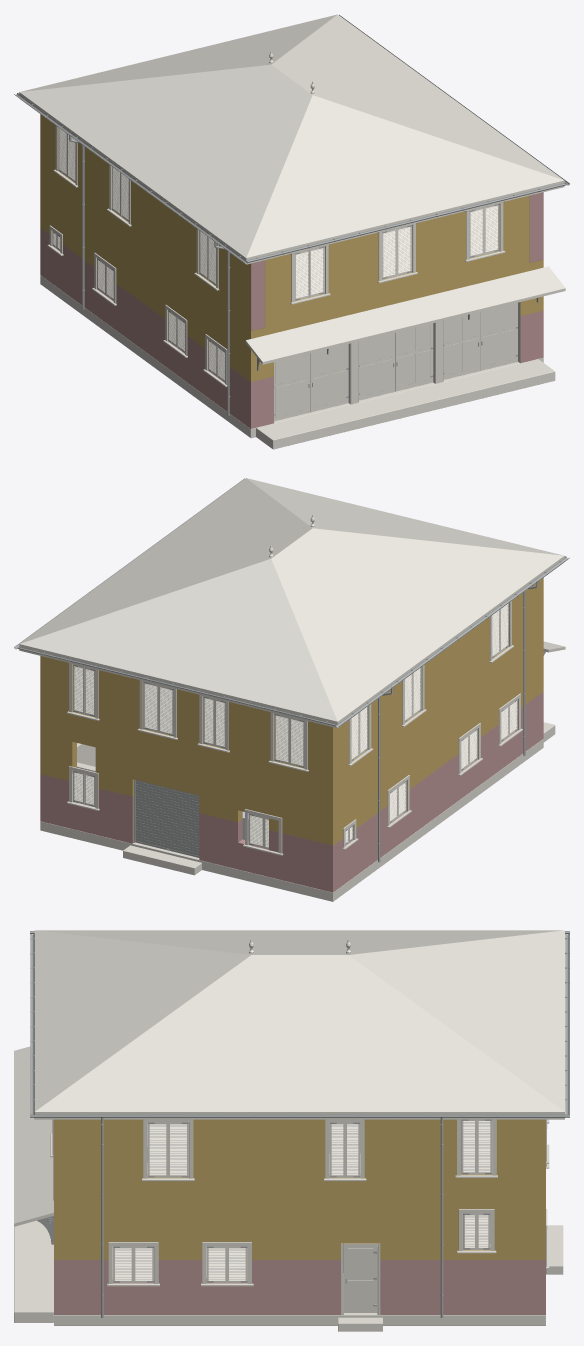
File: grand_fond_H11.glb
3 views of the same model, one above another, from view 1: azimuth 30°, elevation 25°; view 2: azimuth 150°, elevation 25°; view 3: azimuth 270°, elevation 25° (orthographic). The views are drawn at different scales.
Visible parts, largest first — view 1: Roof_Hip, Walls_Outer, Roof_Canopy, Det_shutter_paint, ARCH_pavers_concrete, Det_plaster_cream_warm_bev, Det_galvanized_steel, Foundation_Slab, DoorLeaf_02a_L_in, DoorLeaf_01a_L_in, DoorLeaf_03a_L_in, DoorLeaf_01b_R_in (+7 smaller); view 2: Roof_Hip, Walls_Outer, Det_shutter_paint, Det_plaster_cream_warm_bev, Foundation_Slab, DoorRoll_01, Det_galvanized_steel, Det_painted_timber_warmgrey_bev, ARCH_pavers_concrete, ARCH_plaster_cream_warm, Det_steel_painted_worn; view 3: Roof_Hip, Walls_Outer, Det_shutter_paint, ARCH_pavers_concrete, Det_galvanized_steel, Roof_Canopy, Foundation_Slab, Det_plaster_cream_warm_bev, Det_painted_timber_warmgrey_bev, DoorLeaf_04_L_in, ARCH_white_peeling_timber, ARCH_plaster_cream_warm (+1 smaller).
Boxes of the visible parts, x1=… form: Roof_Hip: x1=19, y1=14, x2=564, y2=259; Walls_Outer: x1=40, y1=114, x2=543, y2=428; Roof_Canopy: x1=245, y1=266, x2=565, y2=364; Det_shutter_paint: x1=52, y1=128, x2=499, y2=382; ARCH_pavers_concrete: x1=256, y1=359, x2=555, y2=449; Det_plaster_cream_warm_bev: x1=47, y1=125, x2=505, y2=387; Det_galvanized_steel: x1=14, y1=15, x2=569, y2=415; Foundation_Slab: x1=40, y1=275, x2=543, y2=438; DoorLeaf_02a_L_in: x1=395, y1=323, x2=433, y2=391; DoorLeaf_01a_L_in: x1=310, y1=344, x2=348, y2=412; DoorLeaf_03a_L_in: x1=480, y1=302, x2=517, y2=370; DoorLeaf_01b_R_in: x1=274, y1=353, x2=310, y2=420; Roof_Hip: x1=19, y1=478, x2=564, y2=723; Walls_Outer: x1=40, y1=578, x2=543, y2=892; Det_shutter_paint: x1=73, y1=603, x2=517, y2=849; Det_plaster_cream_warm_bev: x1=67, y1=601, x2=522, y2=855; Foundation_Slab: x1=40, y1=739, x2=543, y2=901; DoorRoll_01: x1=135, y1=780, x2=199, y2=857; Det_galvanized_steel: x1=14, y1=478, x2=569, y2=862; Det_painted_timber_warmgrey_bev: x1=19, y1=557, x2=564, y2=728; ARCH_pavers_concrete: x1=123, y1=722, x2=555, y2=875; ARCH_plaster_cream_warm: x1=67, y1=603, x2=521, y2=855; Det_steel_painted_worn: x1=30, y1=483, x2=562, y2=845; Roof_Hip: x1=34, y1=930, x2=564, y2=1113; Walls_Outer: x1=54, y1=1119, x2=545, y2=1314; Det_shutter_paint: x1=113, y1=1119, x2=491, y2=1282; ARCH_pavers_concrete: x1=14, y1=1220, x2=563, y2=1331; Det_galvanized_steel: x1=30, y1=931, x2=569, y2=1317; Roof_Canopy: x1=14, y1=1046, x2=53, y2=1226; Foundation_Slab: x1=54, y1=1246, x2=545, y2=1325; Det_plaster_cream_warm_bev: x1=50, y1=1119, x2=549, y2=1286; Det_painted_timber_warmgrey_bev: x1=34, y1=1112, x2=564, y2=1119; DoorLeaf_04_L_in: x1=344, y1=1246, x2=377, y2=1312; ARCH_white_peeling_timber: x1=113, y1=1120, x2=492, y2=1314; ARCH_plaster_cream_warm: x1=51, y1=1119, x2=548, y2=1285.
Bounding box in the file's own units: 12.67 × 9.68 × 16.04.
